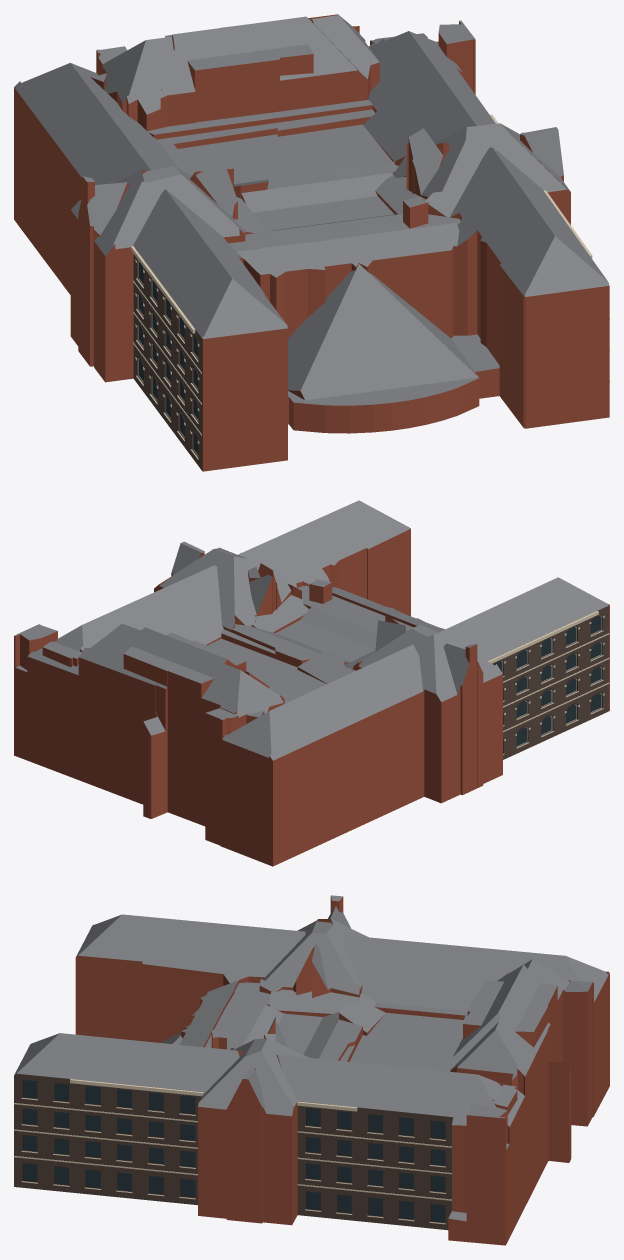
The model's file is recipe-large-oz-achterburgwal-233-180196.glb.
The picture shows the model from 3 angles, top to bottom: view 1: azimuth 30°, elevation 25°; view 2: azimuth 150°, elevation 25°; view 3: azimuth 270°, elevation 25°; orthographic projection. The views are drawn at different scales.
Parts seen in each view (by area): view 1: oz-achterburgwal-233-180196; view 2: oz-achterburgwal-233-180196; view 3: oz-achterburgwal-233-180196.
Part boxes in pixels (x1,y1,x2,y2): oz-achterburgwal-233-180196: [14, 14, 609, 471]; oz-achterburgwal-233-180196: [14, 500, 609, 866]; oz-achterburgwal-233-180196: [14, 895, 609, 1245].
Size of the model in its own units: 59.22 by 22.09 by 71.78.
